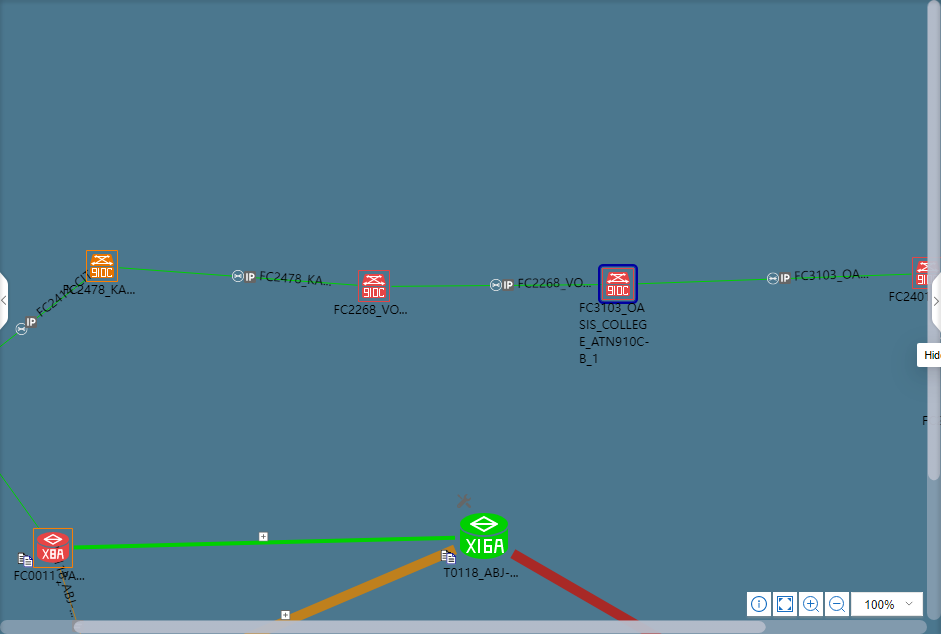ATN_Orange: (88, 252, 116, 281)
ATN_Red: (605, 273, 631, 297), (362, 274, 385, 298), (915, 260, 927, 285)
Link_Green: (0, 276, 86, 351), (74, 535, 455, 550), (120, 265, 357, 287), (639, 273, 911, 285), (0, 473, 40, 528), (391, 283, 598, 288)
Link_Orange: (278, 545, 457, 621)
Link_Red: (510, 549, 636, 620)
Router_Green: (459, 515, 507, 559)
Router_Red: (36, 533, 70, 565)
